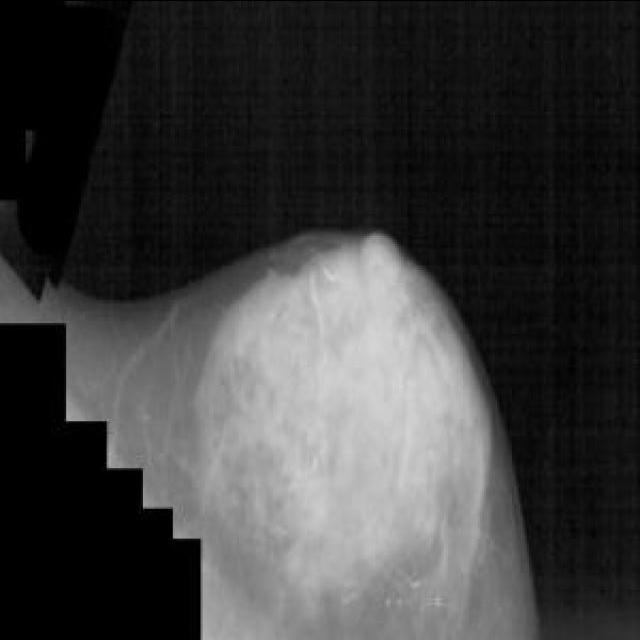tumor: (182, 262, 436, 500)
